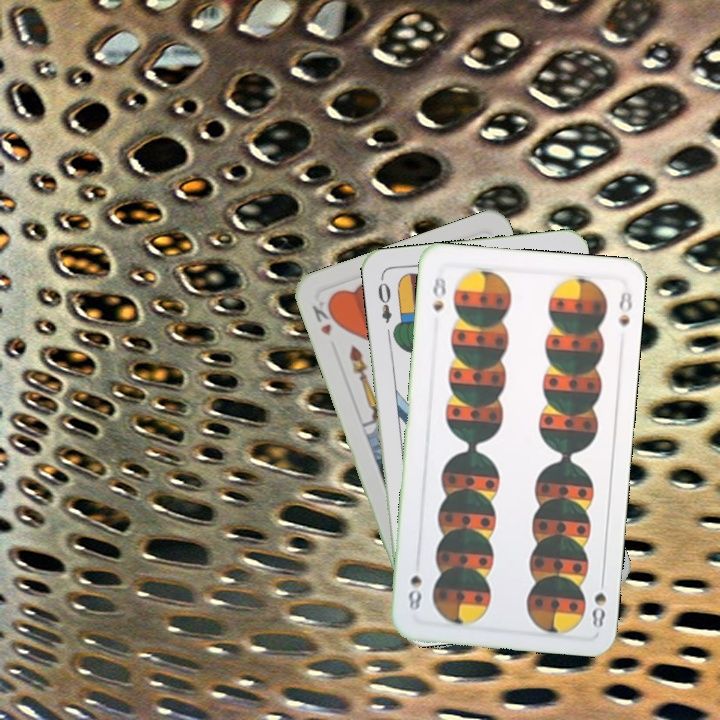EO: (373, 273, 394, 326)
HK: (308, 296, 341, 339)
S8: (588, 572, 609, 630), (428, 272, 449, 315)
